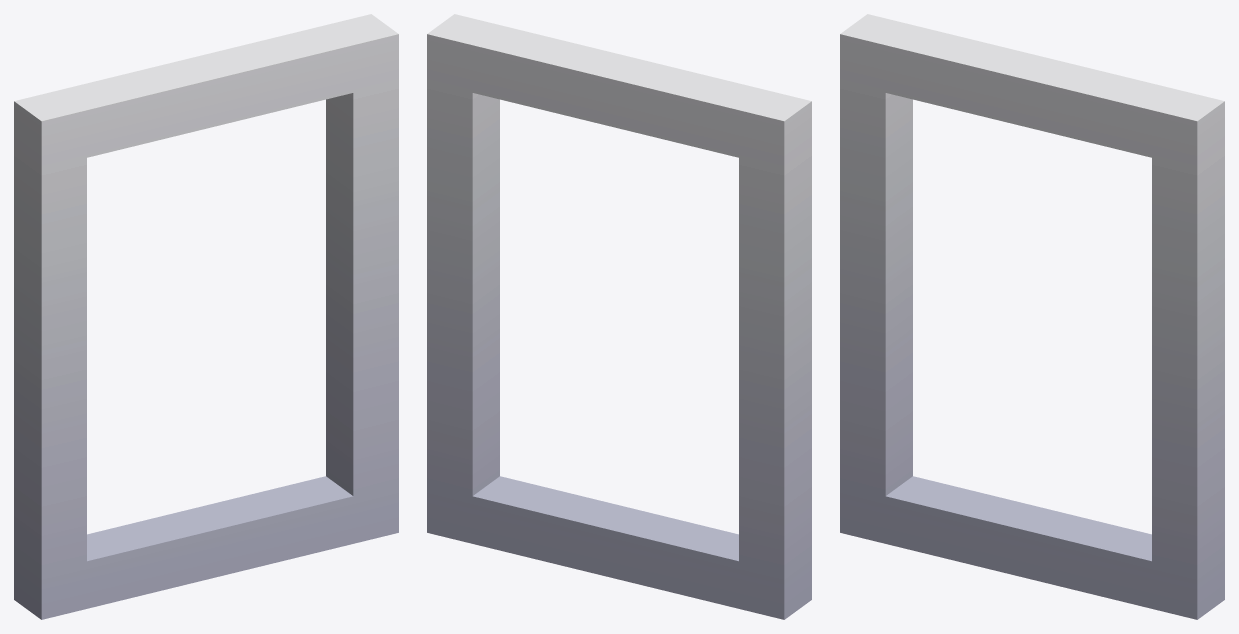
File: kenney-modular-buildings-window-white-large.glb
The picture shows the model from 3 angles, left to right: view 1: azimuth 30°, elevation 25°; view 2: azimuth 150°, elevation 25°; view 3: azimuth 330°, elevation 25°; orthographic projection.
Visible parts, largest first — view 1: window-white-large; view 2: window-white-large; view 3: window-white-large.
Part boxes in pixels (x1,y1,x2,y2): window-white-large: (14, 14, 398, 619); window-white-large: (427, 14, 811, 619); window-white-large: (840, 14, 1224, 619).
Bounding box in the file's own units: 0.375 × 0.5 × 0.05.
Materials: 1 (1 with a texture image).
